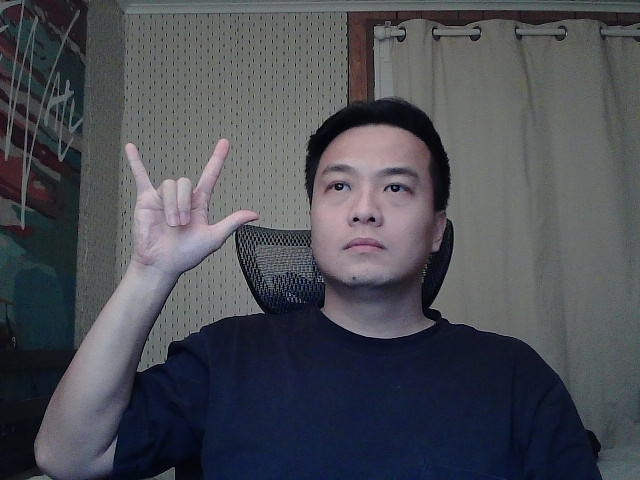I Love You: (103, 114, 273, 278)
